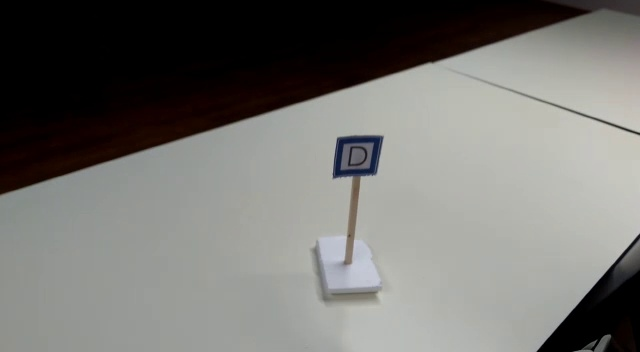durak: (332, 133, 384, 176)
